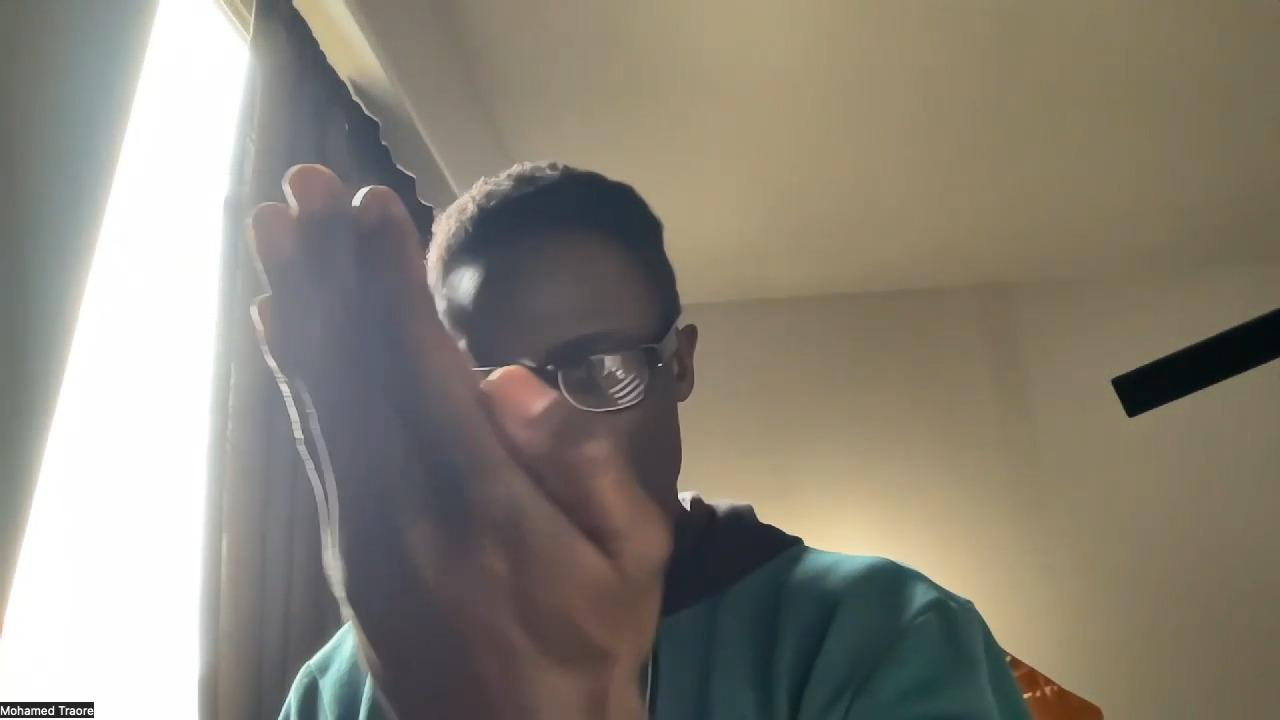Paper: (245, 162, 672, 704)
